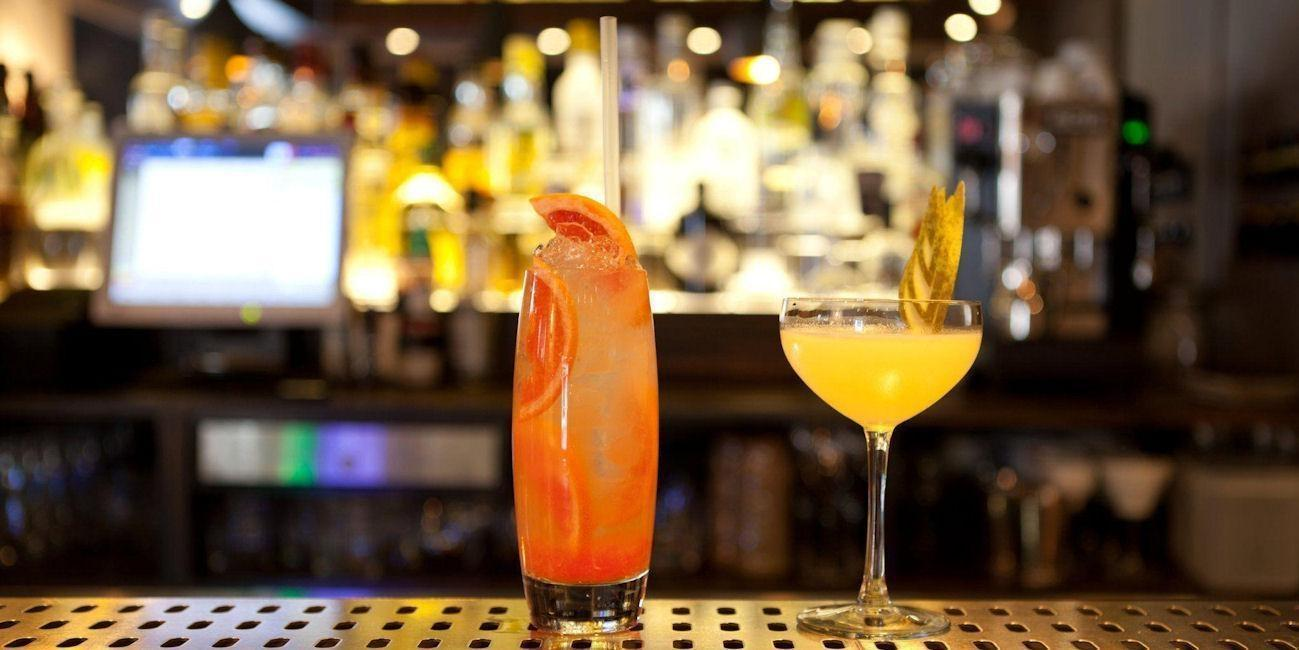glass-normal: (507, 239, 667, 649)
glass-wine: (778, 290, 985, 641)
